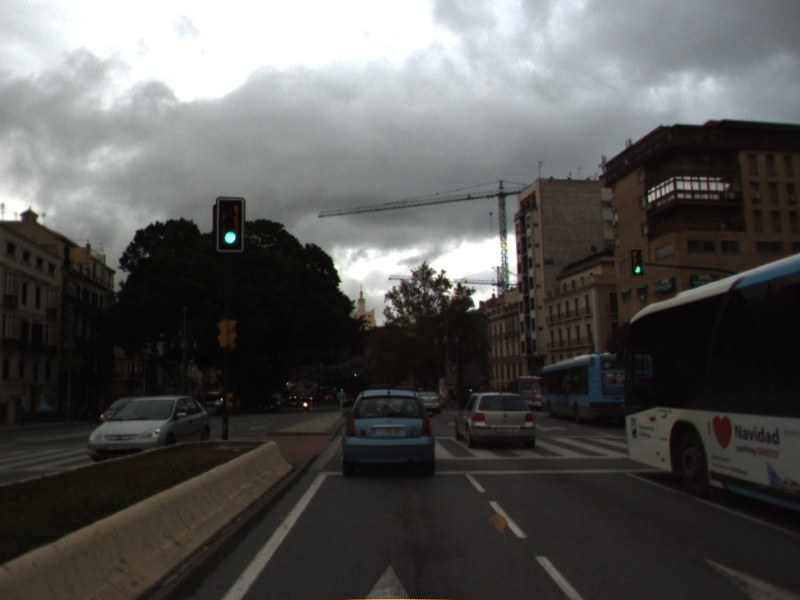STRAIGHT_RIGHT: (533, 419, 567, 434)
